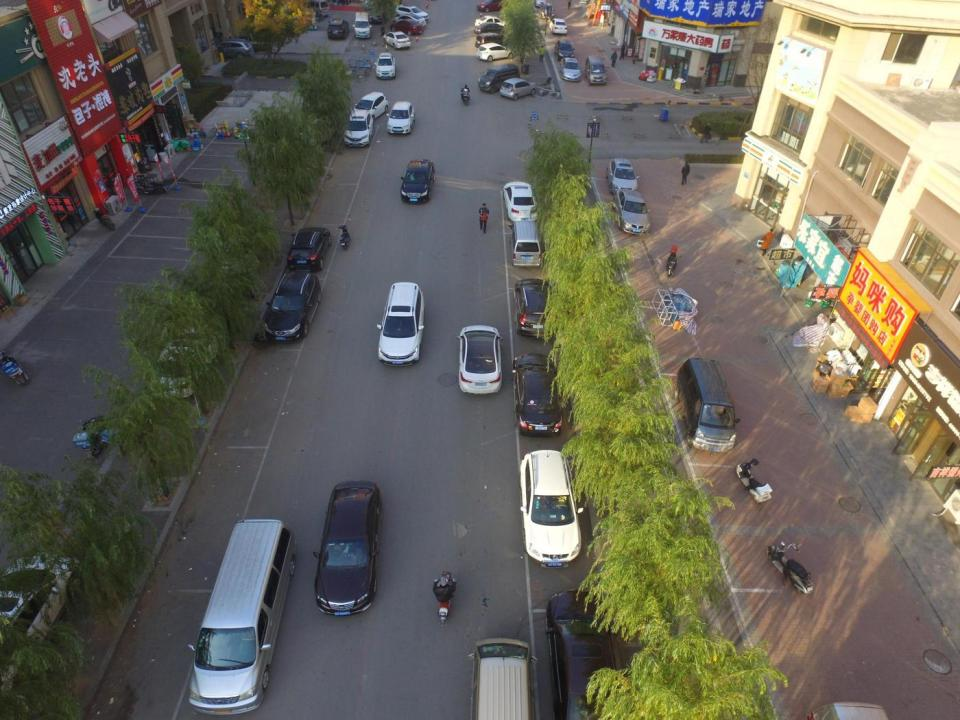car: (0, 551, 88, 709), (545, 588, 624, 720), (311, 478, 382, 617), (518, 448, 585, 568), (509, 351, 563, 439), (374, 280, 426, 368), (263, 268, 323, 344), (454, 323, 503, 396), (150, 337, 201, 401), (512, 276, 561, 339), (286, 225, 332, 271), (610, 188, 650, 236), (400, 158, 435, 205), (502, 180, 540, 223), (354, 90, 389, 121), (386, 100, 416, 135), (214, 38, 255, 61), (499, 77, 537, 100), (476, 42, 515, 62), (373, 52, 396, 80), (390, 18, 425, 36), (392, 4, 429, 21), (558, 57, 582, 81), (382, 30, 411, 49), (327, 16, 349, 40), (392, 13, 427, 28), (473, 21, 509, 35), (554, 39, 576, 60), (474, 15, 506, 28), (366, 0, 384, 23), (476, 0, 509, 12), (548, 17, 568, 34)
van: (186, 517, 299, 719), (672, 356, 740, 452), (466, 635, 539, 720), (508, 220, 544, 268), (478, 63, 520, 95), (343, 108, 374, 149), (584, 54, 608, 85), (474, 32, 509, 48), (352, 10, 371, 39), (305, 1, 331, 18)
